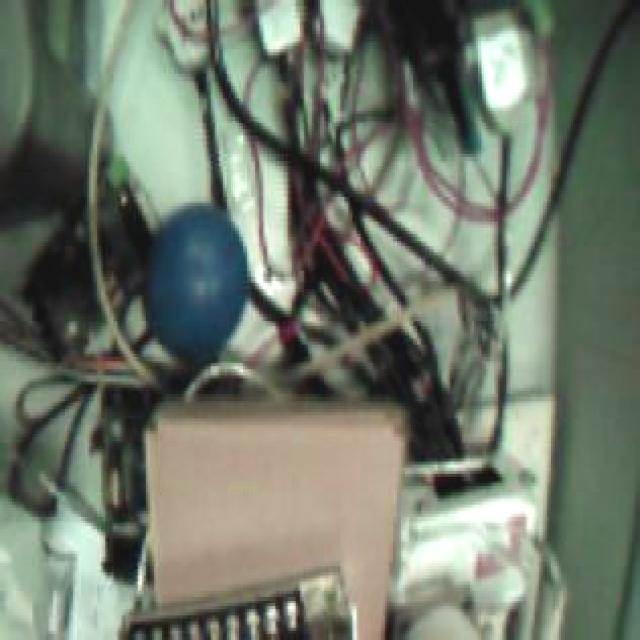BallPurple: (141, 204, 247, 358)
